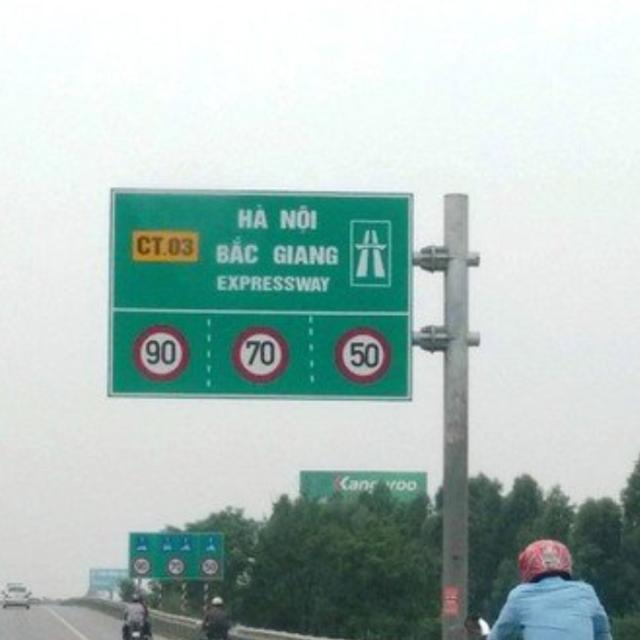Speed Limit -90-: (130, 321, 193, 381)
